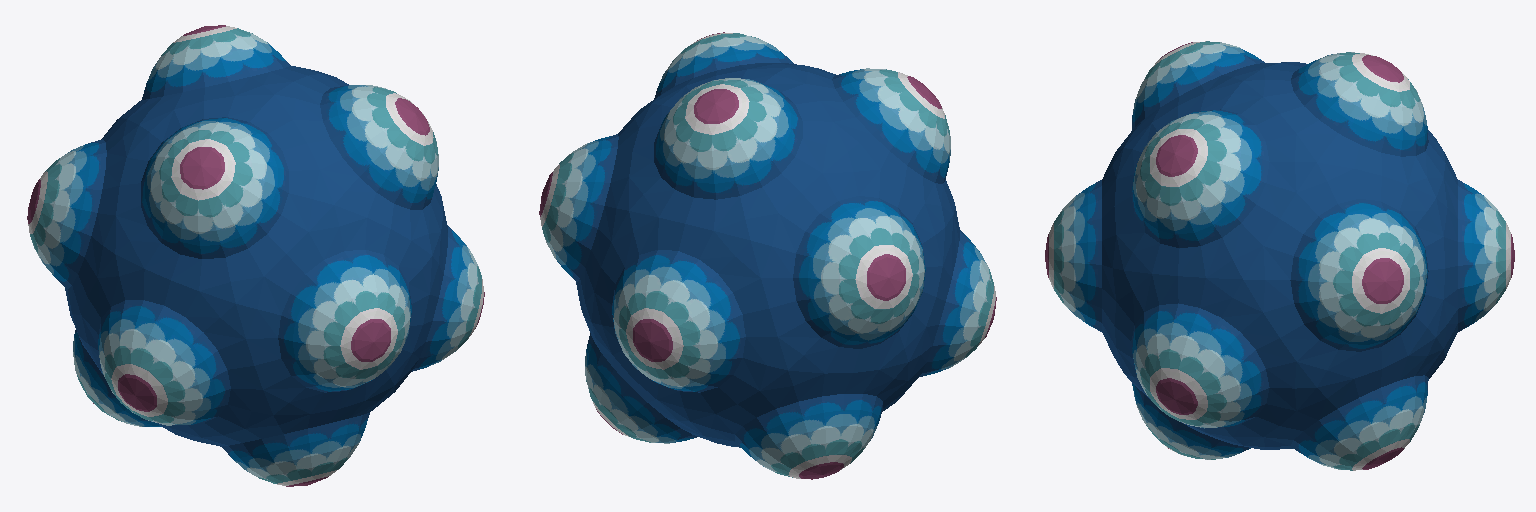
The picture shows the model from 3 angles: view 1: azimuth 30°, elevation 25°; view 2: azimuth 150°, elevation 25°; view 3: azimuth 270°, elevation 25°; orthographic projection.
Visible parts, largest first — view 1: core_15_0; view 2: core_15_0; view 3: core_15_0.
Part boxes in pixels (left/top/right/bottom): core_15_0: left=27, top=25, right=484, bottom=486; core_15_0: left=539, top=32, right=996, bottom=479; core_15_0: left=1045, top=41, right=1514, bottom=470.
Size of the model in its own units: 0.0478 by 0.0494 by 0.0537.
1 materials, 1 textured.